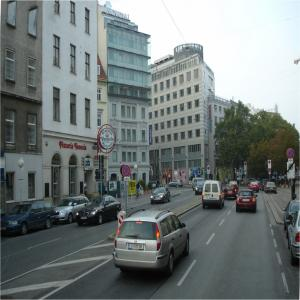Vehicle-registration-plate: (129, 244, 145, 252), (244, 200, 250, 201)
